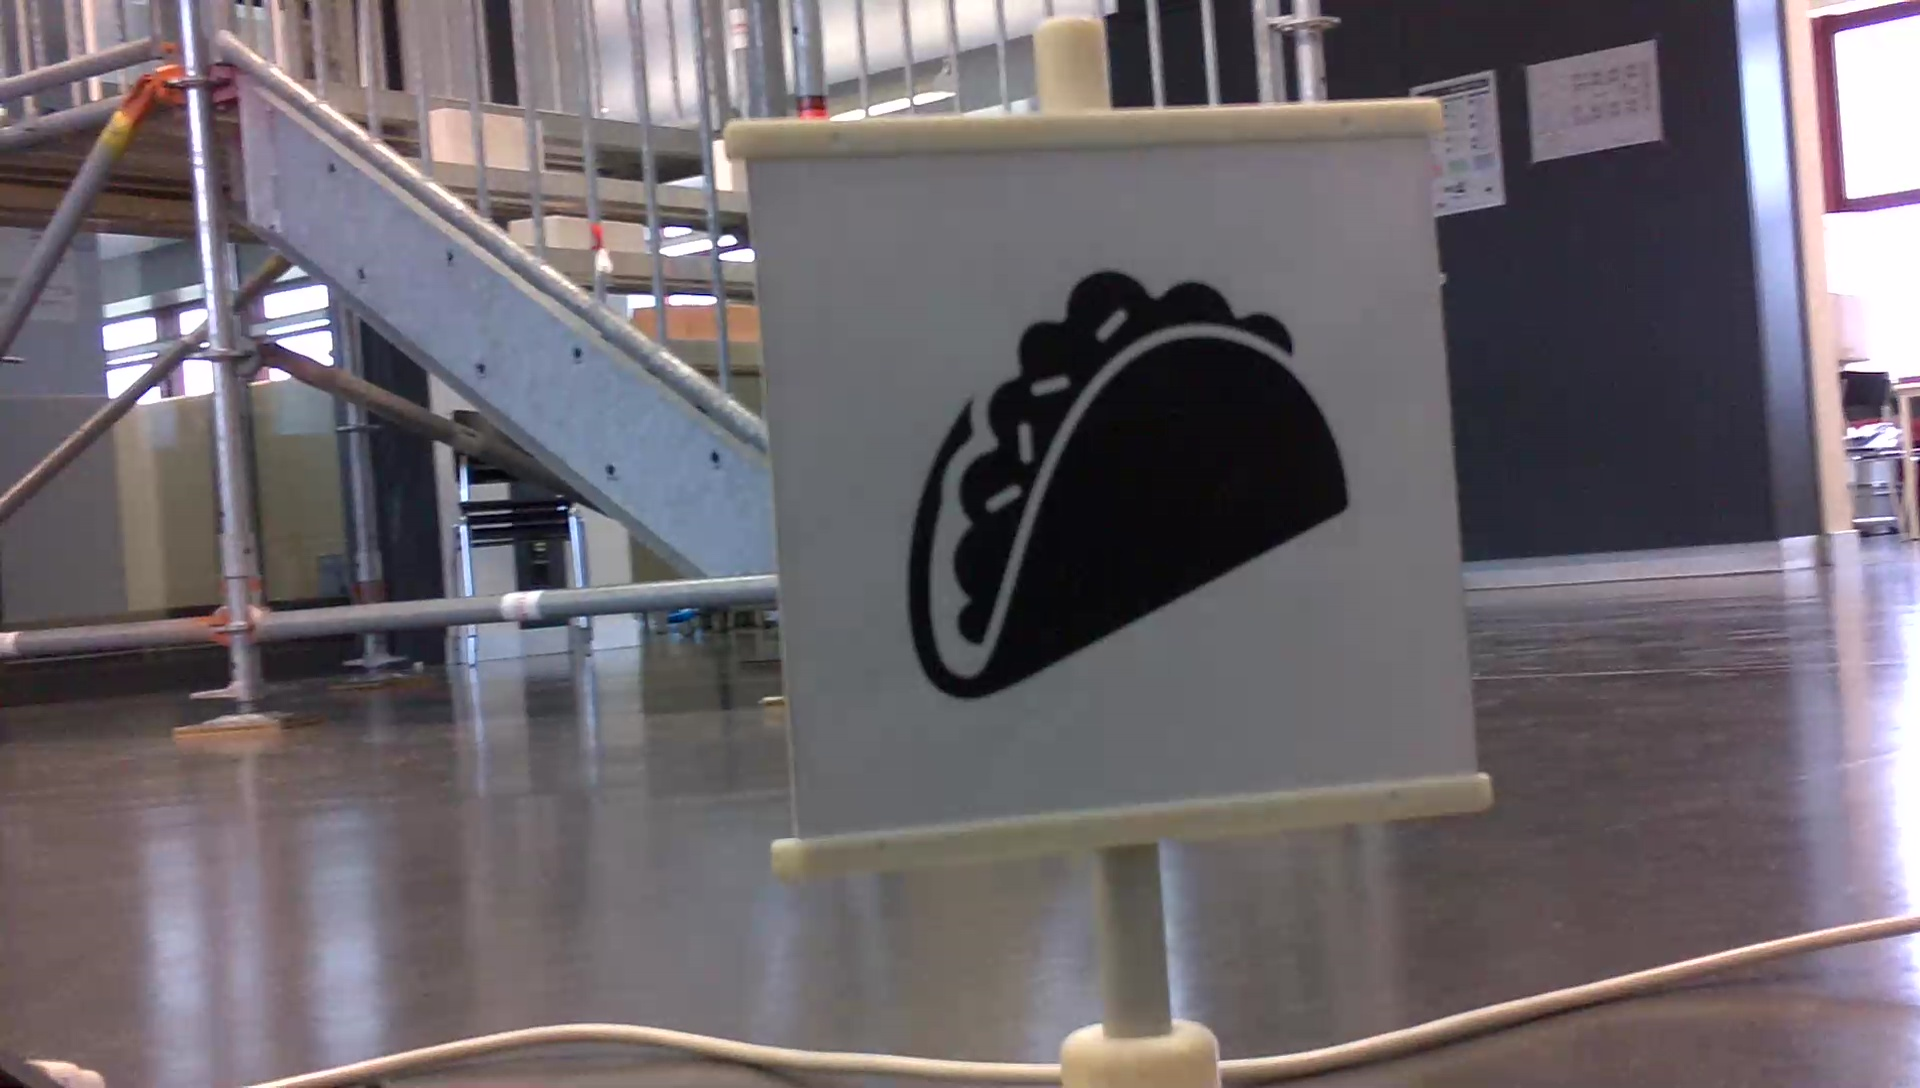taco: (895, 253, 1365, 710)
